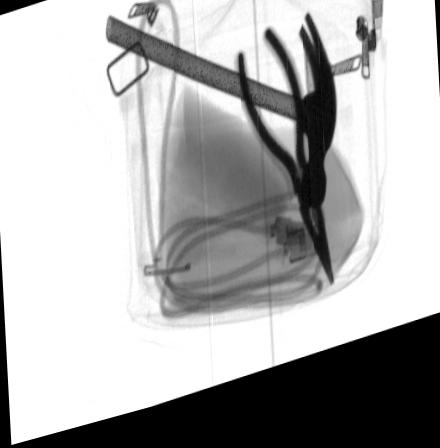Hammer: (104, 20, 338, 225)
Pliers: (232, 42, 332, 300)
